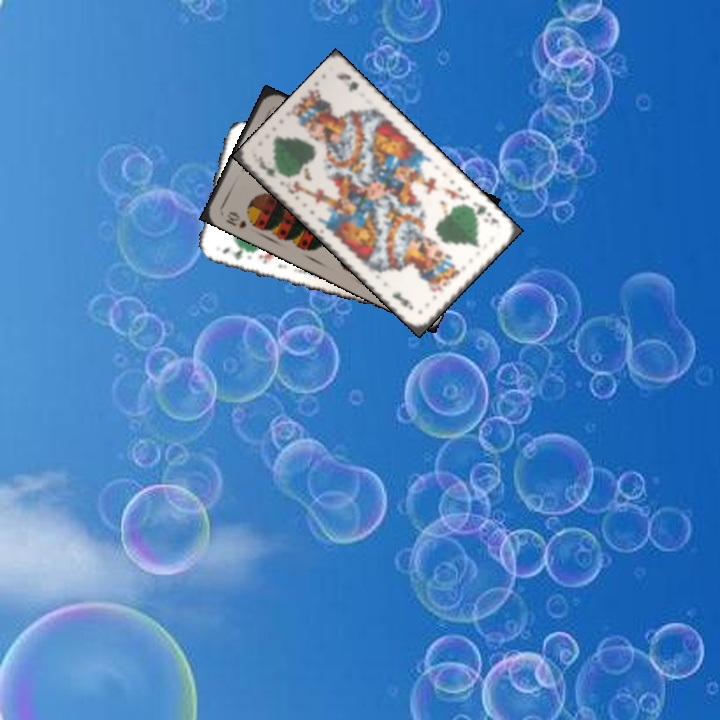GK: (466, 200, 503, 228), (218, 244, 246, 262), (259, 163, 286, 181)
S10: (222, 207, 249, 231)
